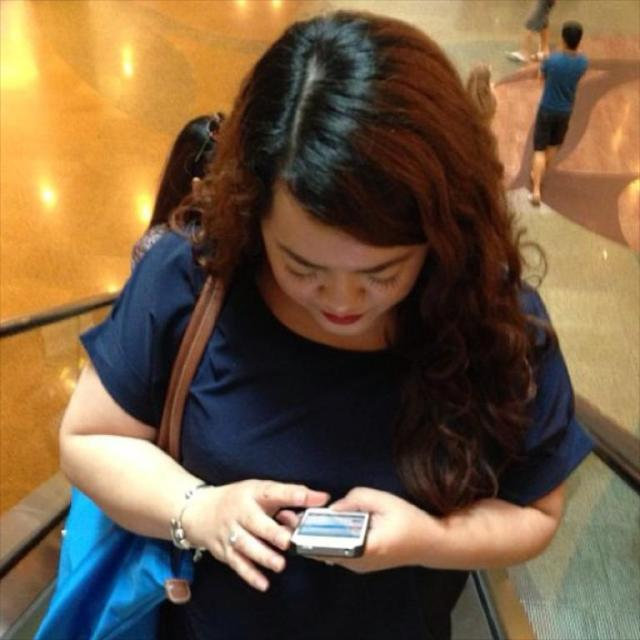phone: (294, 502, 374, 565)
